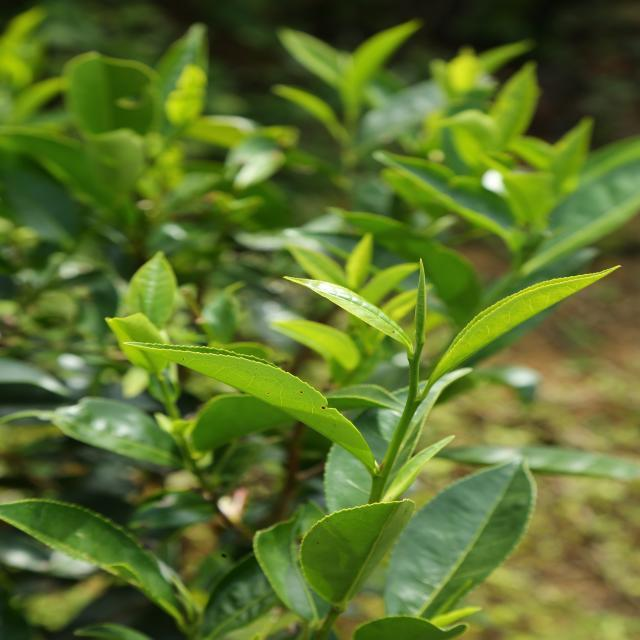Stem: (403, 398, 422, 415)
